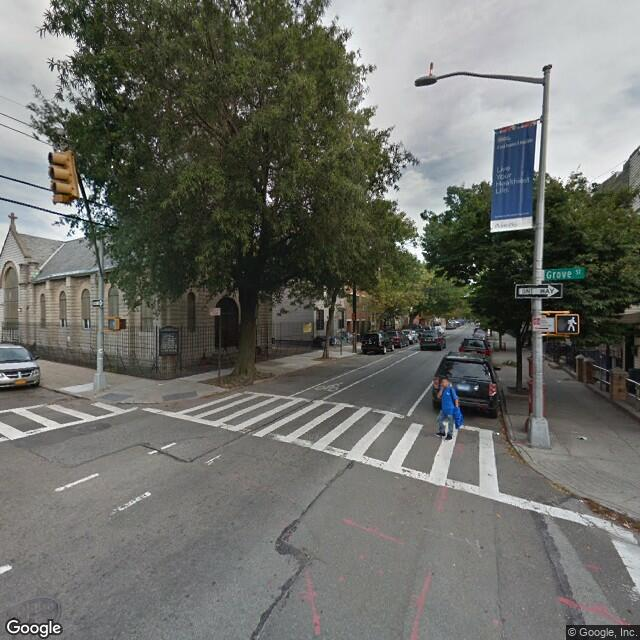litter: (572, 431, 596, 444)
